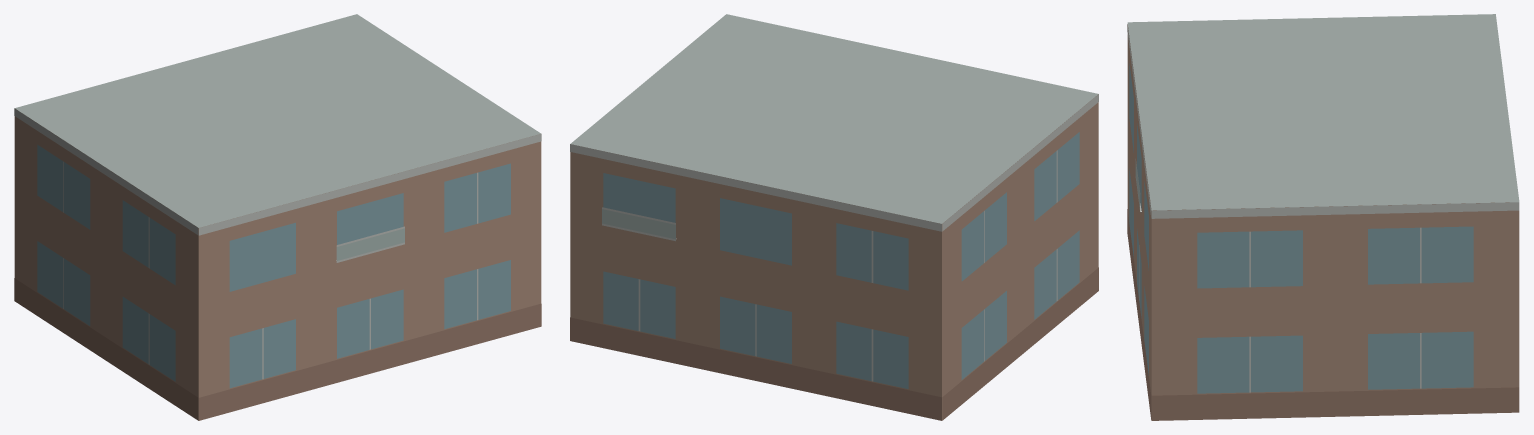
The model's file is survey-upis-32841298.glb.
3 views of the same model, side by side, from view 1: azimuth 30°, elevation 25°; view 2: azimuth 150°, elevation 25°; view 3: azimuth 270°, elevation 25° (orthographic). The views are drawn at different scales.
Visible parts, largest first — view 1: survey-upis-32841298.tmp; view 2: survey-upis-32841298.tmp; view 3: survey-upis-32841298.tmp.
Boxes of the visible parts, x1,y1,x2,y2 form: survey-upis-32841298.tmp: (14,14,541,420); survey-upis-32841298.tmp: (570,14,1098,420); survey-upis-32841298.tmp: (1127,14,1519,420).
Bounding box in the file's own units: 12.23 × 6.1 × 10.31.
